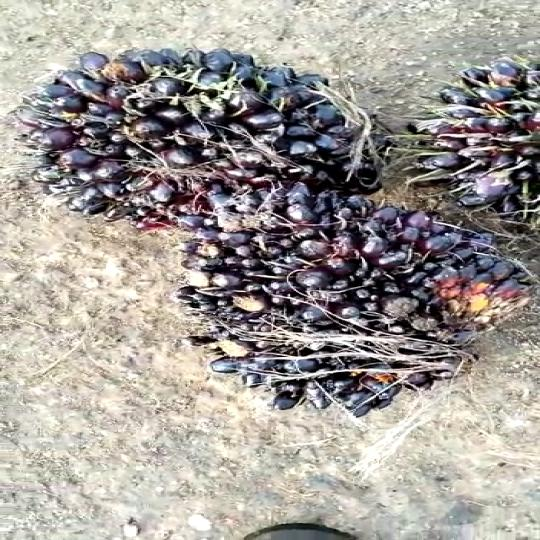mentah: (149, 182, 540, 437), (1, 39, 371, 238)
